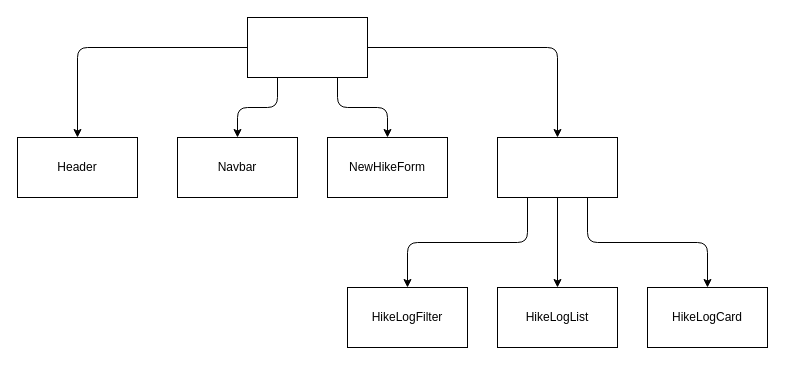
The diagram is 785 pixels wide and 365 high, and some of its shapes have lost their labels. Here are the shapes that lost their labels. From the top down, the centre of each, then its label:
At pixel 307 47: "App".
At pixel 557 167: "MainContainer".
